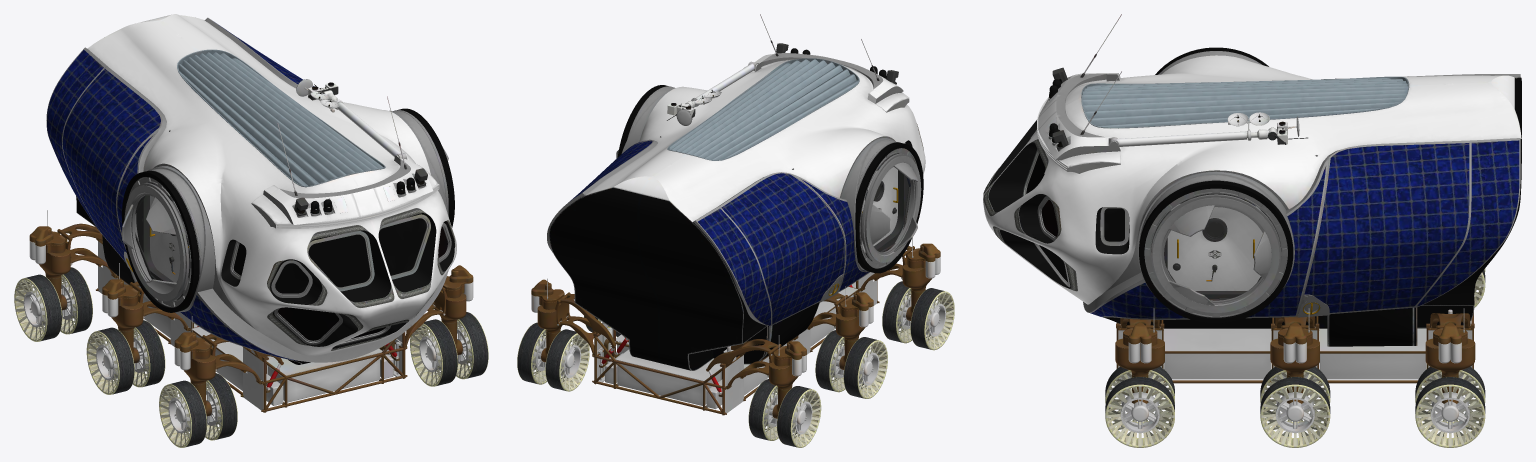
File: sev.glb
3 views of the same model, side by side, from view 1: azimuth 30°, elevation 25°; view 2: azimuth 150°, elevation 25°; view 3: azimuth 270°, elevation 25° (orthographic). The views are drawn at different scales.
Visible parts, largest first — view 1: MMSEV; view 2: MMSEV; view 3: MMSEV.
Boxes of the visible parts, bbox=[...] form: MMSEV: bbox=[14, 14, 488, 447]; MMSEV: bbox=[517, 14, 954, 447]; MMSEV: bbox=[983, 14, 1521, 447].
Bounding box in the file's own units: 4.04 × 3.97 × 5.91.
Materials: 1 (1 with a texture image).
